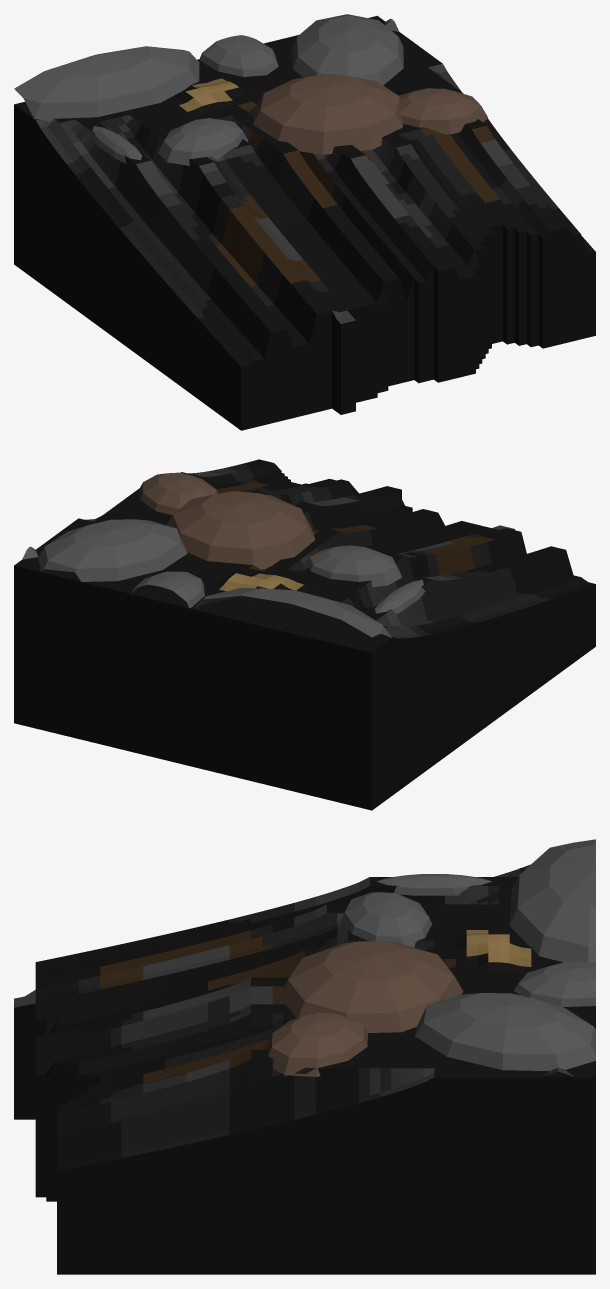
The picture shows the model from 3 angles, top to bottom: view 1: azimuth 30°, elevation 25°; view 2: azimuth 150°, elevation 25°; view 3: azimuth 270°, elevation 25°; orthographic projection. The views are drawn at different scales.
Visible parts, largest first — view 1: shapesz-t141; view 2: shapesz-t141; view 3: shapesz-t141.
Part boxes in pixels (x1=…): shapesz-t141: x1=14, y1=14, x2=595, y2=430; shapesz-t141: x1=14, y1=459, x2=595, y2=810; shapesz-t141: x1=14, y1=839, x2=595, y2=1274.
Size of the model in its own units: 2 by 0.9995 by 2.25.
